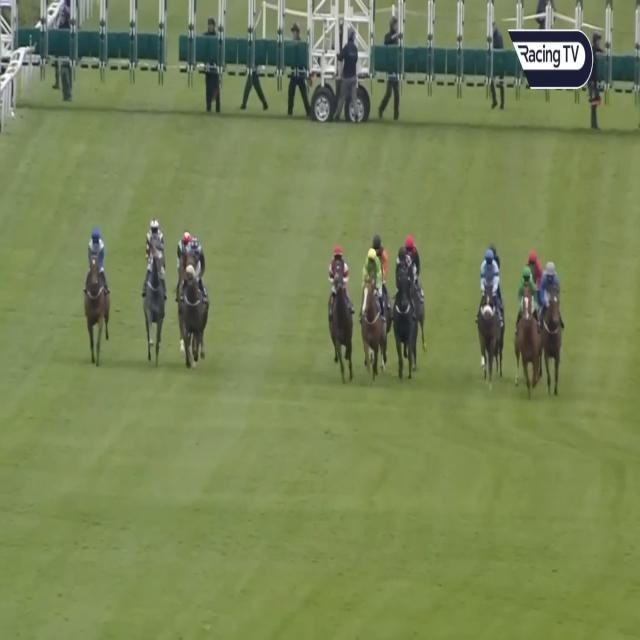horses-racing: (323, 244, 357, 369), (84, 225, 112, 363), (361, 251, 388, 372), (392, 245, 416, 378), (144, 216, 165, 362), (477, 250, 501, 375), (184, 236, 206, 363), (517, 267, 539, 391), (542, 261, 563, 384), (372, 230, 392, 326), (407, 234, 423, 331), (177, 225, 192, 321), (527, 244, 542, 292), (487, 245, 503, 273)
